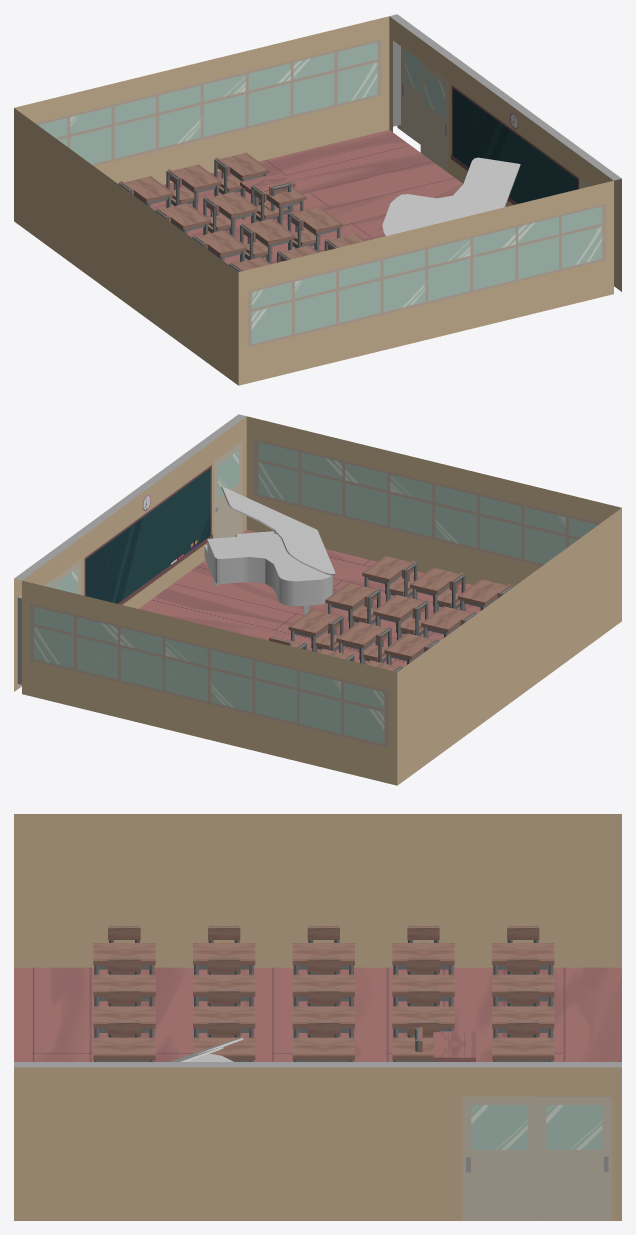
The model's file is ongakushitu_1.fbx.
3 renders of one model, top to bottom at view 1: azimuth 30°, elevation 25°; view 2: azimuth 150°, elevation 25°; view 3: azimuth 270°, elevation 25°, orthographic. The views are drawn at different scales.
Visible parts, largest first — view 1: polySurface2, group6, piano2, dore, tukue; view 2: polySurface2, group6, piano2; view 3: polySurface2, group6, dore, tukue, piano2.
Boxes of the visible parts, <box> form: polySurface2: <box>14,14,621,385</box>; group6: <box>118,152,366,271</box>; piano2: <box>382,157,520,236</box>; dore: <box>401,46,420,144</box>; tukue: <box>240,172,295,222</box>; polySurface2: <box>14,414,621,785</box>; group6: <box>274,556,512,671</box>; piano2: <box>204,486,335,614</box>; polySurface2: <box>14,814,621,1220</box>; group6: <box>93,925,554,1061</box>; dore: <box>537,1096,611,1220</box>; tukue: <box>433,1031,475,1061</box>; piano2: <box>170,1037,243,1061</box>.
Bounding box in the file's own units: 24.04 × 6.8 × 24.39.
